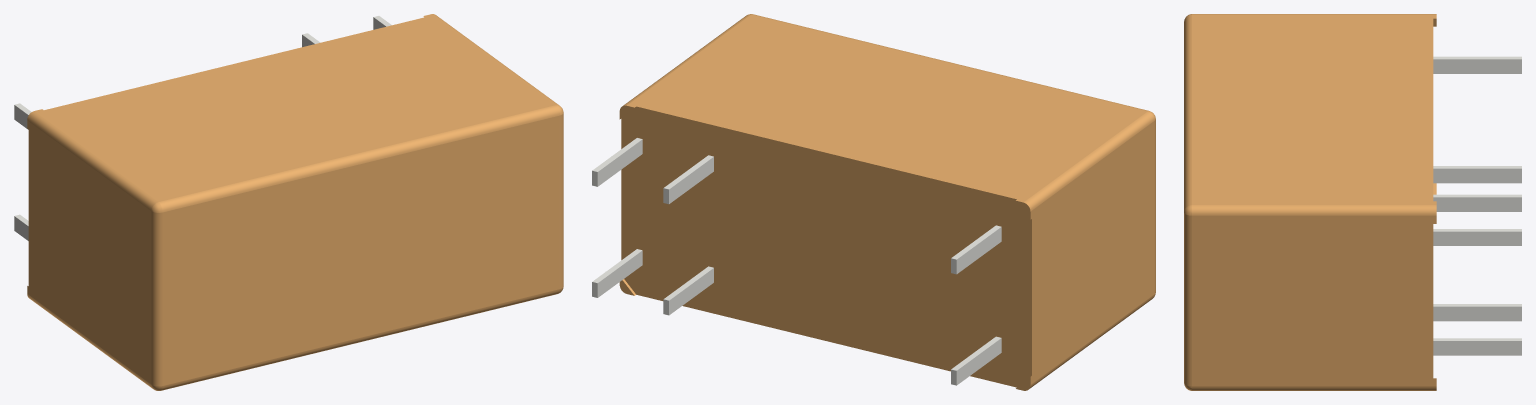
The model's file is Relay_DPST_Schrack-RT2-FormA_RM5mm.glb.
The picture shows the model from 3 angles, left to right: view 1: azimuth 30°, elevation 25°; view 2: azimuth 150°, elevation 25°; view 3: azimuth 270°, elevation 25°; orthographic projection.
Parts seen in each view (by area): view 1: Shape_IndexedFaceSet.052, Shape_IndexedFaceSet.011, Shape_IndexedFaceSet.007, Shape_IndexedFaceSet.044, Shape_IndexedFaceSet.037, Shape_IndexedFaceSet.039, Shape_IndexedFaceSet.036, Shape_IndexedFaceSet.045, Shape_IndexedFaceSet.038; view 2: Shape_IndexedFaceSet.005, Shape_IndexedFaceSet.011, Shape_IndexedFaceSet.007, Shape_IndexedFaceSet.036, Shape_IndexedFaceSet.001, Shape_IndexedFaceSet.022, Shape_IndexedFaceSet.030, Shape_IndexedFaceSet.026, Shape_IndexedFaceSet.014, Shape_IndexedFaceSet.018, Shape_IndexedFaceSet.044, Shape_IndexedFaceSet.038; view 3: Shape_IndexedFaceSet.011, Shape_IndexedFaceSet.012, Shape_IndexedFaceSet.043, Shape_IndexedFaceSet.044, Shape_IndexedFaceSet.020, Shape_IndexedFaceSet.024, Shape_IndexedFaceSet.045, Shape_IndexedFaceSet.003, Shape_IndexedFaceSet.028, Shape_IndexedFaceSet.032, Shape_IndexedFaceSet.016, Shape_IndexedFaceSet.040 (+2 smaller).
Part boxes in pixels (x1=…): Shape_IndexedFaceSet.052: x1=162, y1=115, x2=559, y2=385; Shape_IndexedFaceSet.011: x1=34, y1=14, x2=554, y2=201; Shape_IndexedFaceSet.007: x1=27, y1=120, x2=151, y2=384; Shape_IndexedFaceSet.044: x1=159, y1=105, x2=559, y2=212; Shape_IndexedFaceSet.037: x1=151, y1=211, x2=162, y2=386; Shape_IndexedFaceSet.039: x1=161, y1=289, x2=559, y2=390; Shape_IndexedFaceSet.036: x1=27, y1=111, x2=157, y2=210; Shape_IndexedFaceSet.045: x1=559, y1=113, x2=563, y2=288; Shape_IndexedFaceSet.038: x1=27, y1=294, x2=152, y2=388; Shape_IndexedFaceSet.005: x1=621, y1=106, x2=1031, y2=387; Shape_IndexedFaceSet.011: x1=627, y1=15, x2=1147, y2=202; Shape_IndexedFaceSet.007: x1=1030, y1=121, x2=1154, y2=384; Shape_IndexedFaceSet.036: x1=1023, y1=111, x2=1154, y2=211; Shape_IndexedFaceSet.001: x1=597, y1=139, x2=642, y2=186; Shape_IndexedFaceSet.022: x1=956, y1=338, x2=1001, y2=385; Shape_IndexedFaceSet.030: x1=597, y1=250, x2=642, y2=297; Shape_IndexedFaceSet.026: x1=956, y1=227, x2=1001, y2=273; Shape_IndexedFaceSet.014: x1=669, y1=157, x2=713, y2=203; Shape_IndexedFaceSet.018: x1=669, y1=268, x2=713, y2=315; Shape_IndexedFaceSet.044: x1=751, y1=14, x2=1148, y2=111; Shape_IndexedFaceSet.038: x1=1029, y1=294, x2=1154, y2=388; Shape_IndexedFaceSet.011: x1=1192, y1=14, x2=1436, y2=204; Shape_IndexedFaceSet.012: x1=1192, y1=215, x2=1436, y2=386; Shape_IndexedFaceSet.043: x1=1192, y1=205, x2=1436, y2=215; Shape_IndexedFaceSet.044: x1=1184, y1=14, x2=1191, y2=211; Shape_IndexedFaceSet.020: x1=1433, y1=306, x2=1521, y2=321; Shape_IndexedFaceSet.024: x1=1433, y1=168, x2=1521, y2=183; Shape_IndexedFaceSet.045: x1=1184, y1=213, x2=1191, y2=386; Shape_IndexedFaceSet.003: x1=1433, y1=231, x2=1521, y2=245; Shape_IndexedFaceSet.028: x1=1433, y1=59, x2=1521, y2=73; Shape_IndexedFaceSet.032: x1=1433, y1=341, x2=1521, y2=355; Shape_IndexedFaceSet.016: x1=1433, y1=197, x2=1521, y2=211; Shape_IndexedFaceSet.040: x1=1192, y1=386, x2=1436, y2=390.
Size of the model in its own units: 11.42 by 5 by 8.27.
